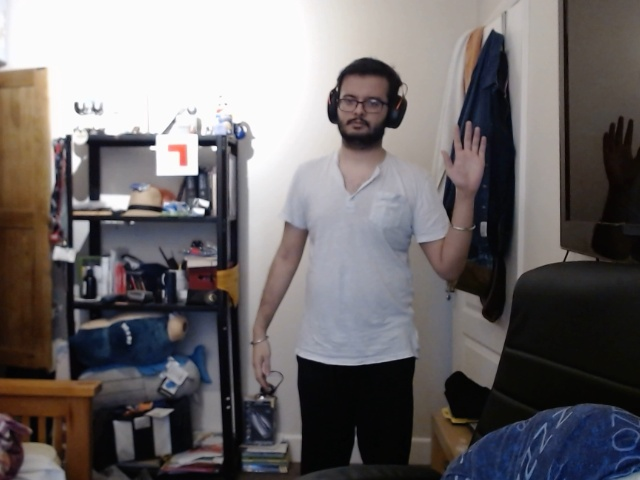Hello: (438, 116, 493, 198)
